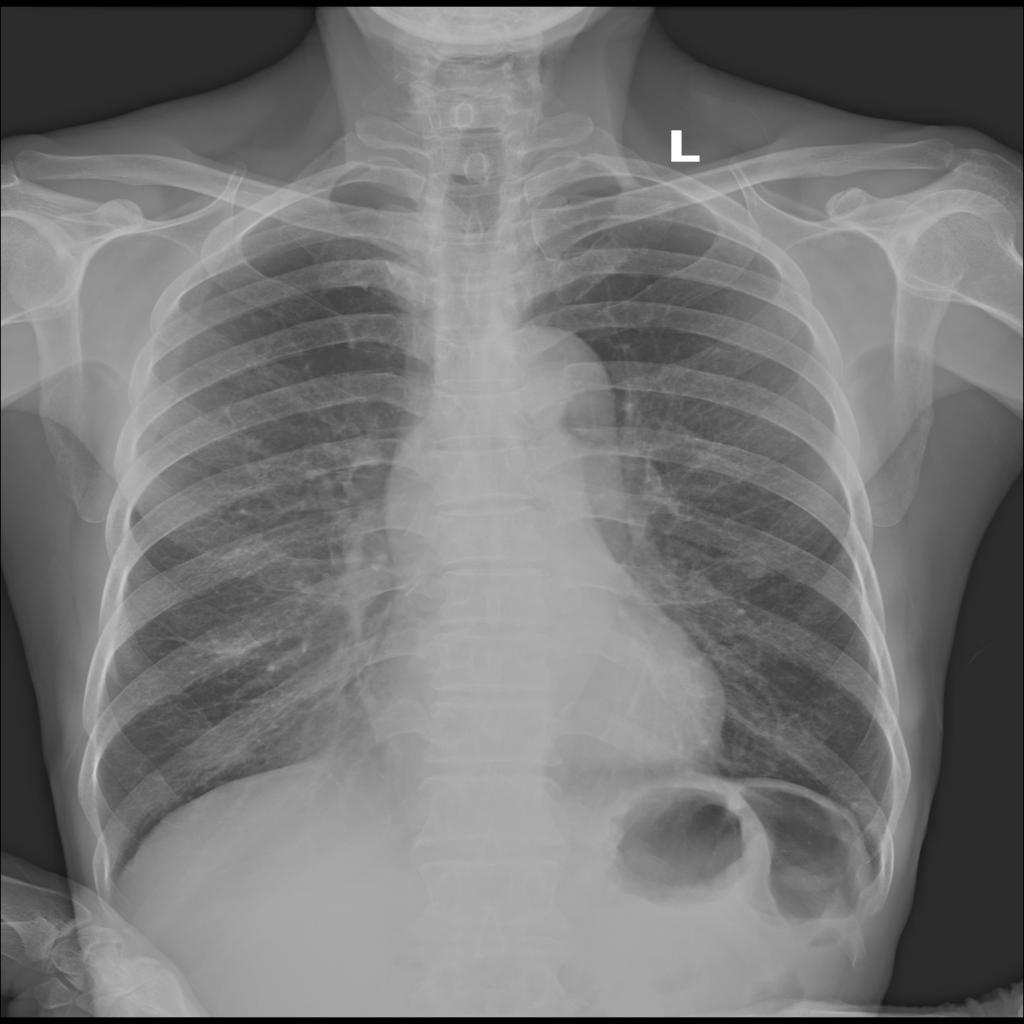Nodule: (733, 556, 770, 580)
